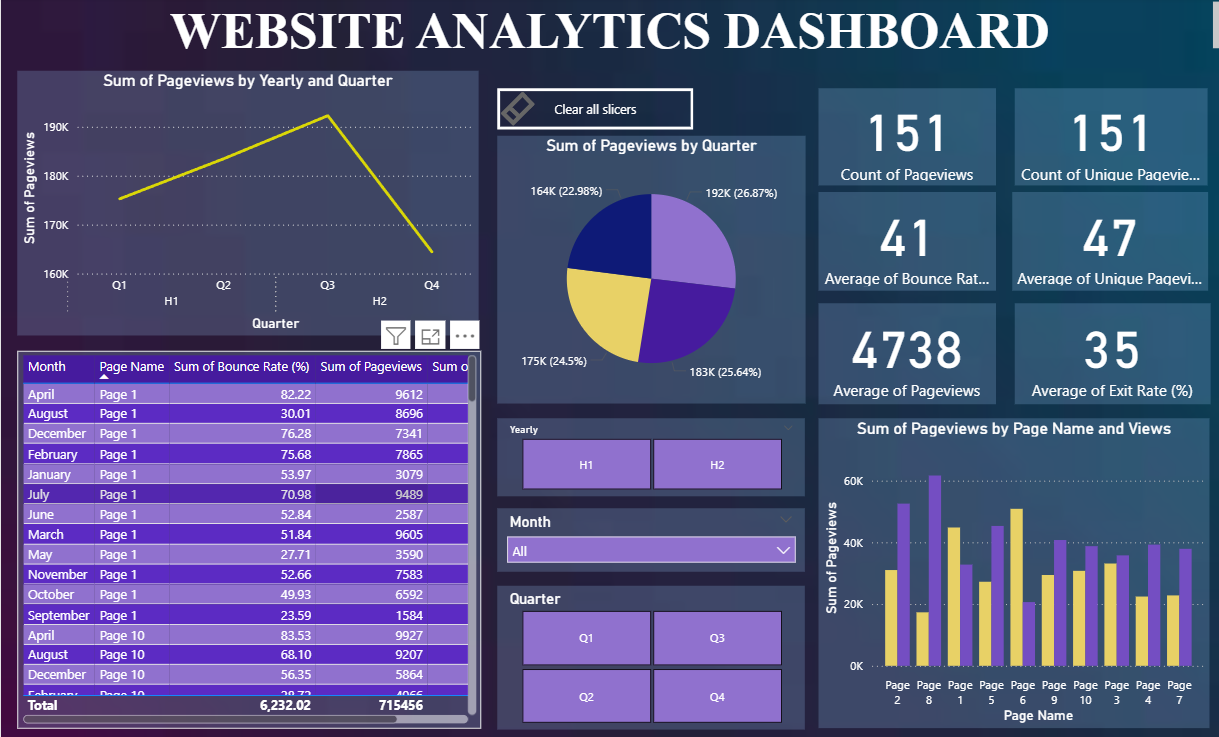

Layout of this report page (visuals, bound fields, positions):
{"tool":"powerbi","page":{"name":"Page 1","canvas":[1280,780],"ordinal":0},"visuals":[{"type":"lineChart","fields":{"Category":["website.Yearly","website.Quarter","website.Month"],"Y":["Sum(website.Pageviews)"]},"box":[17,77.1,482.3,277.1],"z":0},{"type":"tableEx","fields":{"Values":["website.Yearly Hierarchy.Month","website.Page Name","Sum(website.Bounce Rate (%))","Sum(website.Pageviews)","Sum(website.Exit Rate (%))"]},"box":[17,369.9,484.9,394.7],"z":1000},{"type":"card","fields":{"Values":["Avg(website.Pageviews)"]},"box":[854.9,319.7,185.2,105.7],"z":2000},{"type":"card","fields":{"Values":["Avg(website.Unique Pageviews)"]},"box":[1058,204.5,204.5,102.9],"z":3000},{"type":"card","fields":{"Values":["Avg(website.Bounce Rate (%))"]},"box":[854.8,203.9,185.6,103.3],"z":4000},{"type":"card","fields":{"Values":["Avg(website.Exit Rate (%))"]},"box":[1059.4,319.7,204.5,105.7],"z":5000},{"type":"pieChart","fields":{"Y":["Sum(website.Pageviews)"],"Category":["website.Quarter"]},"box":[518.7,145.5,322.5,279.9],"z":6000},{"type":"clusteredColumnChart","fields":{"Series":["website.Views"],"Category":["website.Page Name"],"Y":["Sum(website.Pageviews)"]},"box":[854.9,440.5,408.9,323.8],"z":7000},{"type":"slicer","fields":{"Values":["website.Quarter"]},"box":[518.3,615,321.7,150],"z":8000},{"type":"textbox","box":[0,0,1280.3,64.5],"z":9000},{"type":"slicer","fields":{"Values":["website.Yearly"]},"box":[518.3,440,321.7,81.7],"z":10000},{"type":"actionButton","box":[518.9,95.4,205.2,43.1],"z":11000},{"type":"card","fields":{"Values":["CountNonNull(website.Pageviews)"]},"box":[854.8,95.4,185.6,101.9],"z":12000},{"type":"card","fields":{"Values":["CountNonNull(website.Unique Pageviews)"]},"box":[1060,95.4,201.3,101.9],"z":13000},{"type":"slicer","fields":{"Values":["website.Month"]},"box":[518.3,535,321.7,66.7],"z":14000}]}

Visuals, with their boxes in screenshot pixels (x1, y1, x2, y2), scaled from the page's 1280x780 canvas onto the 1219x737 screenshot:
lineChart - website.Yearly x website.Quarter: (left=16, top=73, right=476, bottom=335)
tableEx - website.Yearly Hierarchy.Month x website.Page Name: (left=16, top=350, right=478, bottom=722)
card - Avg(website.Pageviews): (left=814, top=302, right=991, bottom=402)
card - Avg(website.Unique Pageviews): (left=1008, top=193, right=1202, bottom=290)
card - Avg(website.Bounce Rate (%)): (left=814, top=193, right=991, bottom=290)
card - Avg(website.Exit Rate (%)): (left=1009, top=302, right=1204, bottom=402)
pieChart - Sum(website.Pageviews) x website.Quarter: (left=494, top=137, right=801, bottom=402)
clusteredColumnChart - website.Views x website.Page Name: (left=814, top=416, right=1204, bottom=722)
slicer - website.Quarter: (left=494, top=581, right=800, bottom=723)
textbox: (left=0, top=0, right=1218, bottom=61)
slicer - website.Yearly: (left=494, top=416, right=800, bottom=493)
actionButton: (left=494, top=90, right=690, bottom=131)
card - CountNonNull(website.Pageviews): (left=814, top=90, right=991, bottom=186)
card - CountNonNull(website.Unique Pageviews): (left=1009, top=90, right=1201, bottom=186)
slicer - website.Month: (left=494, top=506, right=800, bottom=569)
